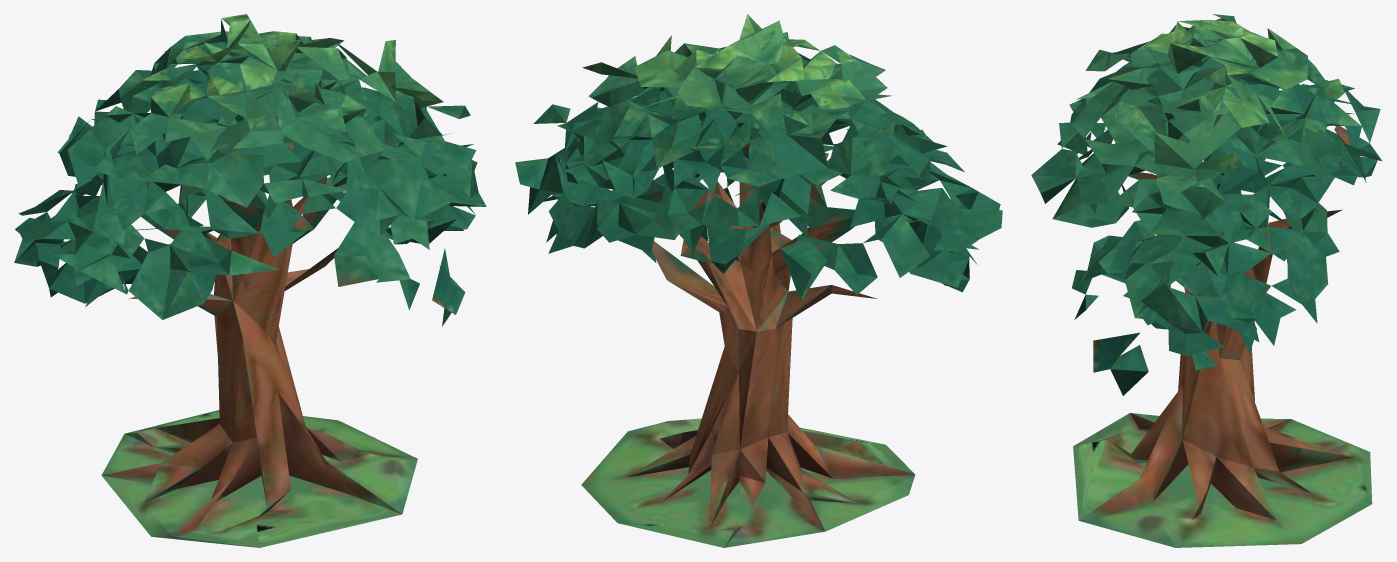
Rendered from treeRound.glb.
3 views of the same model, side by side, from view 1: azimuth 30°, elevation 25°; view 2: azimuth 150°, elevation 25°; view 3: azimuth 270°, elevation 25° (orthographic).
Parts seen in each view (by area): view 1: output_unwrapped; view 2: output_unwrapped; view 3: output_unwrapped.
Part boxes in pixels (x1,y1,x2,y2): output_unwrapped: [14, 14, 486, 547]; output_unwrapped: [515, 14, 1002, 547]; output_unwrapped: [1031, 14, 1382, 547].
Bounding box in the file's own units: 1.82 × 1.69 × 1.18.
Materials: 1 (1 with a texture image).
